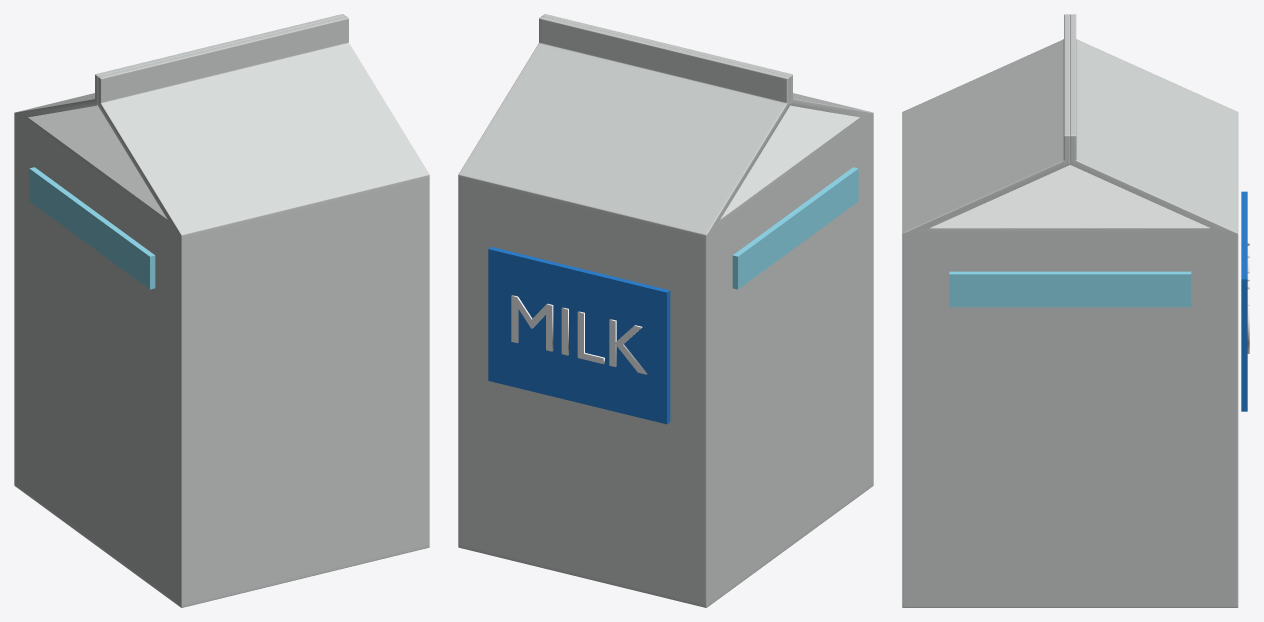
File: MilkCarton.dae
3 renders of one model, left to right at view 1: azimuth 30°, elevation 25°; view 2: azimuth 150°, elevation 25°; view 3: azimuth 270°, elevation 25°, orthographic.
Parts seen in each view (by area): view 1: milk_carton_1, milk_carton_left_cyan_band; view 2: milk_carton_1, milk_carton_front_blue_label, milk_carton_left_cyan_band, milk_carton_front_text; view 3: milk_carton_1, milk_carton_right_cyan_band, milk_carton_front_blue_label.
Boxes of the visible parts, x1=… form: milk_carton_1: x1=14, y1=14, x2=429, y2=607; milk_carton_left_cyan_band: x1=29, y1=167, x2=155, y2=289; milk_carton_1: x1=458, y1=14, x2=873, y2=607; milk_carton_front_blue_label: x1=488, y1=247, x2=670, y2=424; milk_carton_left_cyan_band: x1=732, y1=167, x2=858, y2=289; milk_carton_front_text: x1=511, y1=295, x2=647, y2=374; milk_carton_1: x1=902, y1=14, x2=1238, y2=607; milk_carton_right_cyan_band: x1=949, y1=271, x2=1191, y2=307; milk_carton_front_blue_label: x1=1241, y1=191, x2=1247, y2=411.
Size of the model in its own units: 0.0447 by 0.0507 by 0.076.
